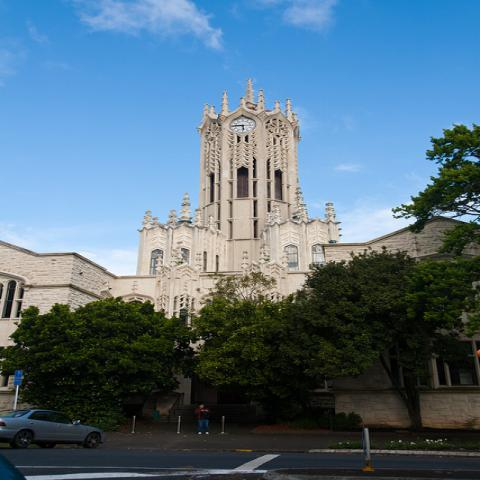car: (1, 410, 107, 448)
